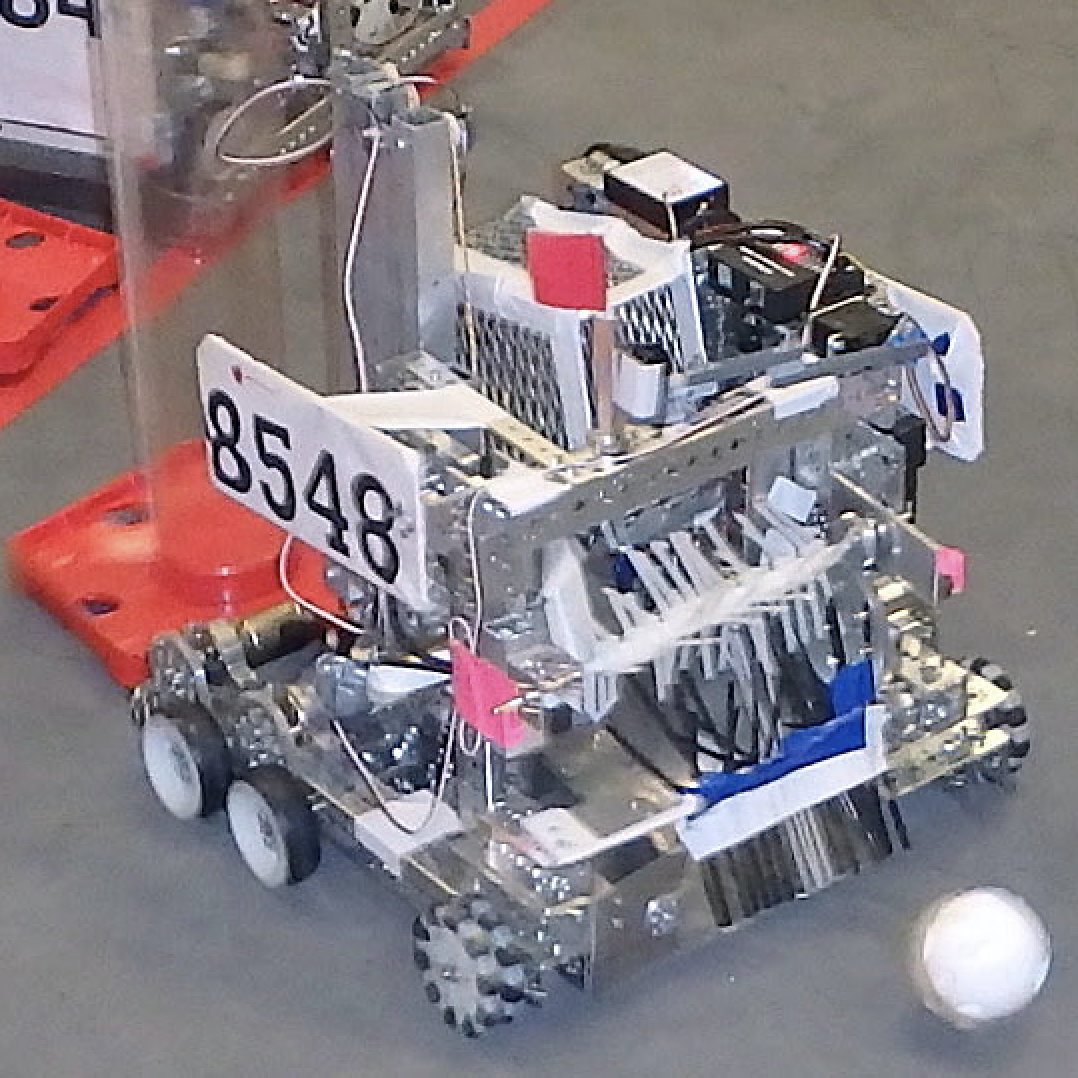robot: (127, 0, 1040, 1050)
